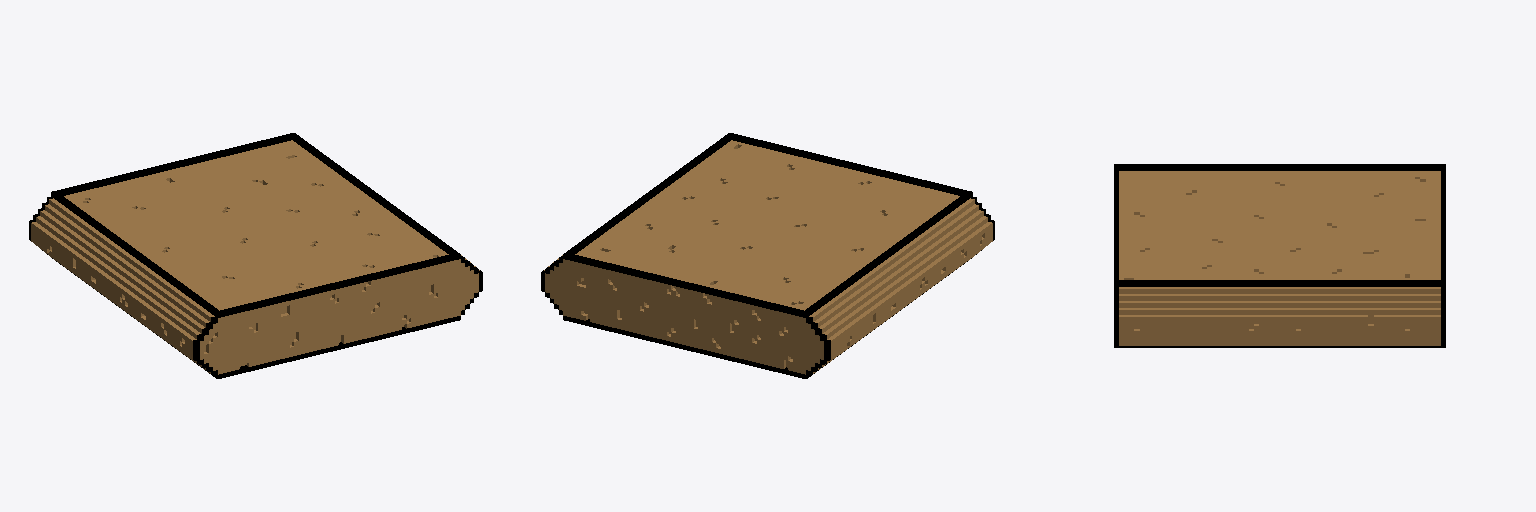
3 views of the same model, side by side, from view 1: azimuth 30°, elevation 25°; view 2: azimuth 150°, elevation 25°; view 3: azimuth 270°, elevation 25° (orthographic).
Visible parts, largest first — view 1: object 1; view 2: object 1; view 3: object 1.
Boxes of the visible parts, <box> form: object 1: <box>29,133,482,378</box>; object 1: <box>541,133,994,378</box>; object 1: <box>1114,164,1445,347</box>.
Size of the model in its own units: 6.4 by 1.4 by 6.4.
Materials: 1 (1 with a texture image).